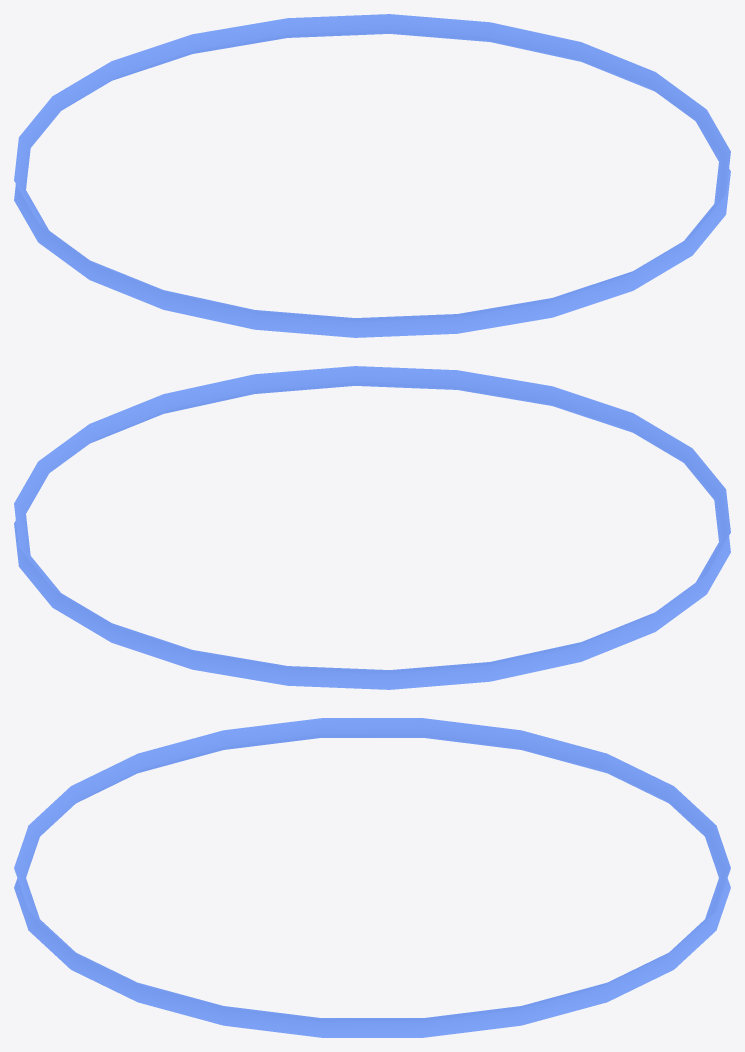
Rendered from Ring.glb.
The picture shows the model from 3 angles, top to bottom: view 1: azimuth 30°, elevation 25°; view 2: azimuth 150°, elevation 25°; view 3: azimuth 270°, elevation 25°; orthographic projection.
Visible parts, largest first — view 1: Circle; view 2: Circle; view 3: Circle.
Boxes of the visible parts, x1,y1,x2,y2 form: Circle: [14, 14, 730, 337]; Circle: [14, 366, 730, 689]; Circle: [14, 718, 730, 1037].
Size of the model in its own units: 2.29 by 0.0702 by 2.31.
